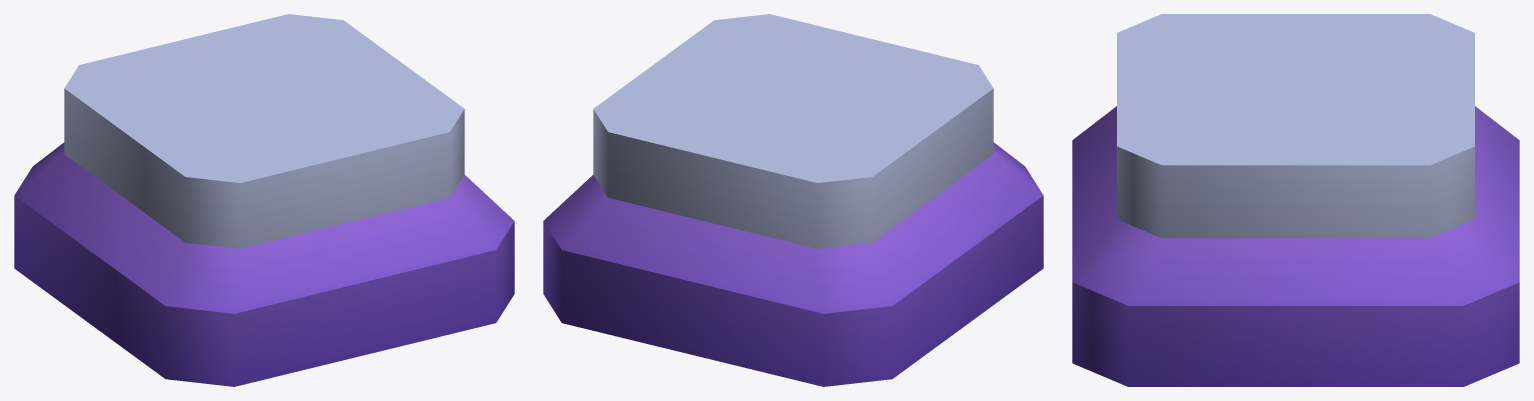
The model's file is tower-square-bottom-a.glb.
3 views of the same model, side by side, from view 1: azimuth 30°, elevation 25°; view 2: azimuth 150°, elevation 25°; view 3: azimuth 270°, elevation 25° (orthographic). The views are drawn at different scales.
Parts seen in each view (by area): view 1: tower-square-bottom-a; view 2: tower-square-bottom-a; view 3: tower-square-bottom-a.
Boxes of the visible parts, left/top/right/bottom form: tower-square-bottom-a: left=14, top=14, right=514, bottom=386; tower-square-bottom-a: left=543, top=14, right=1043, bottom=386; tower-square-bottom-a: left=1072, top=14, right=1519, bottom=386.
Size of the model in its own units: 1 by 0.5001 by 1.
Materials: 1 (1 with a texture image).
